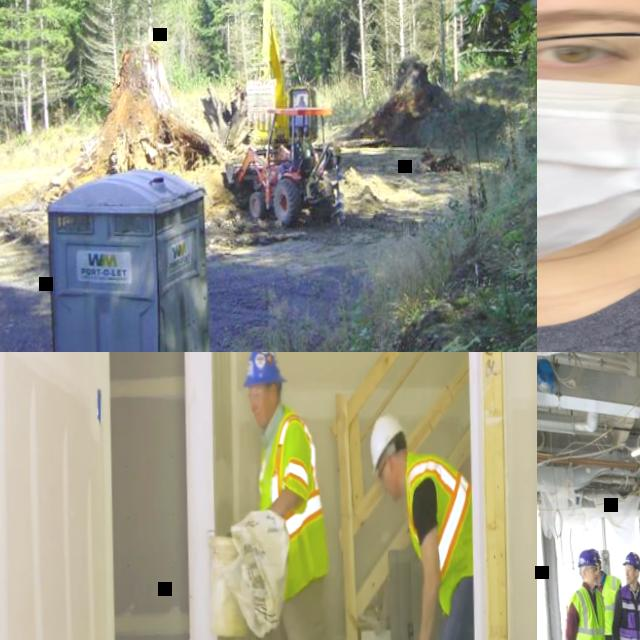Hardhat: (370, 411, 407, 475), (241, 352, 288, 387), (578, 549, 600, 566), (622, 549, 640, 569), (590, 547, 599, 558)
Mask: (537, 69, 640, 278)
NO-Mask: (388, 458, 404, 500), (253, 398, 274, 428), (589, 573, 598, 584), (626, 575, 635, 583)
NO-Safety Vest: (537, 207, 640, 352)
Person: (226, 352, 371, 640), (537, 0, 640, 352), (366, 407, 482, 640), (561, 547, 618, 640), (588, 546, 627, 640), (607, 547, 640, 640), (297, 95, 307, 106)
Safety Vest: (256, 408, 331, 572), (407, 448, 477, 609), (567, 583, 607, 640), (600, 572, 624, 633), (619, 581, 640, 640), (299, 101, 307, 107)
vehicle: (224, 103, 346, 227), (226, 0, 323, 151)
